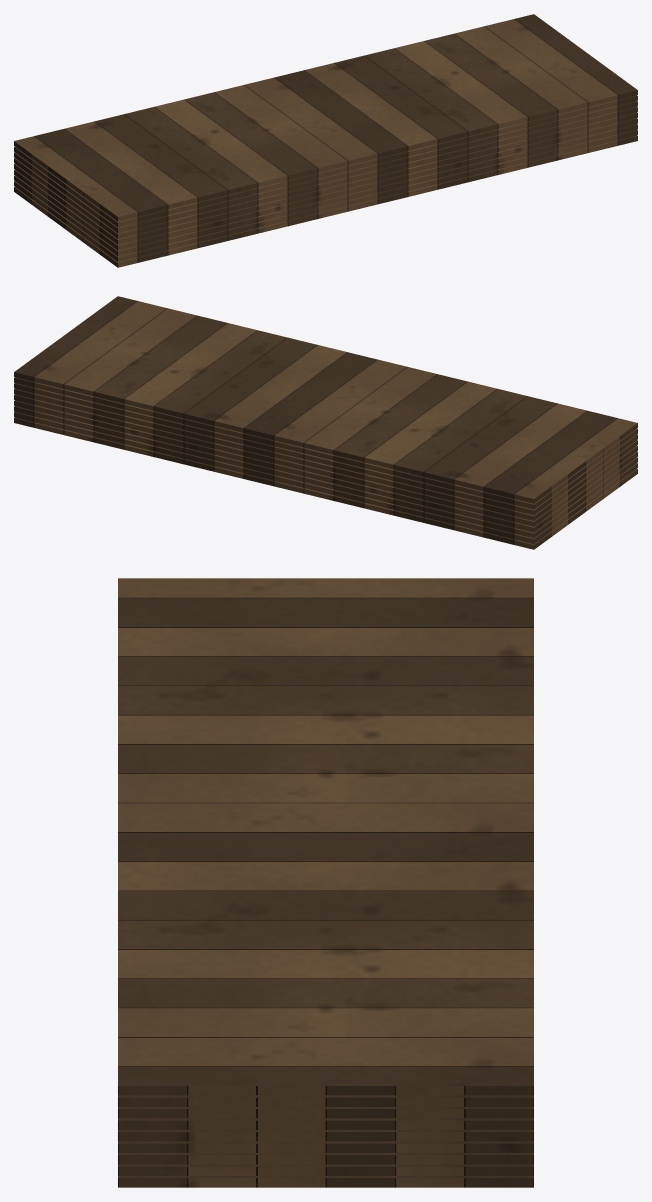
File: A_planks.glb
3 views of the same model, one above another, from view 1: azimuth 30°, elevation 25°; view 2: azimuth 150°, elevation 25°; view 3: azimuth 270°, elevation 25° (orthographic). The views are drawn at different scales.
Visible parts, largest first — view 1: A_planks; view 2: A_planks; view 3: A_planks.
Part boxes in pixels (x1,y1,x2,y2): A_planks: (14, 14, 637, 267); A_planks: (14, 296, 637, 549); A_planks: (118, 578, 533, 1187).
Size of the model in its own units: 5.2 by 0.485 by 1.8.
1 material, 1 textured.
